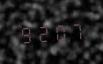nine: (18, 22, 33, 45)
seven: (66, 18, 81, 41)
two: (34, 21, 49, 44)
zero: (50, 20, 65, 42)
